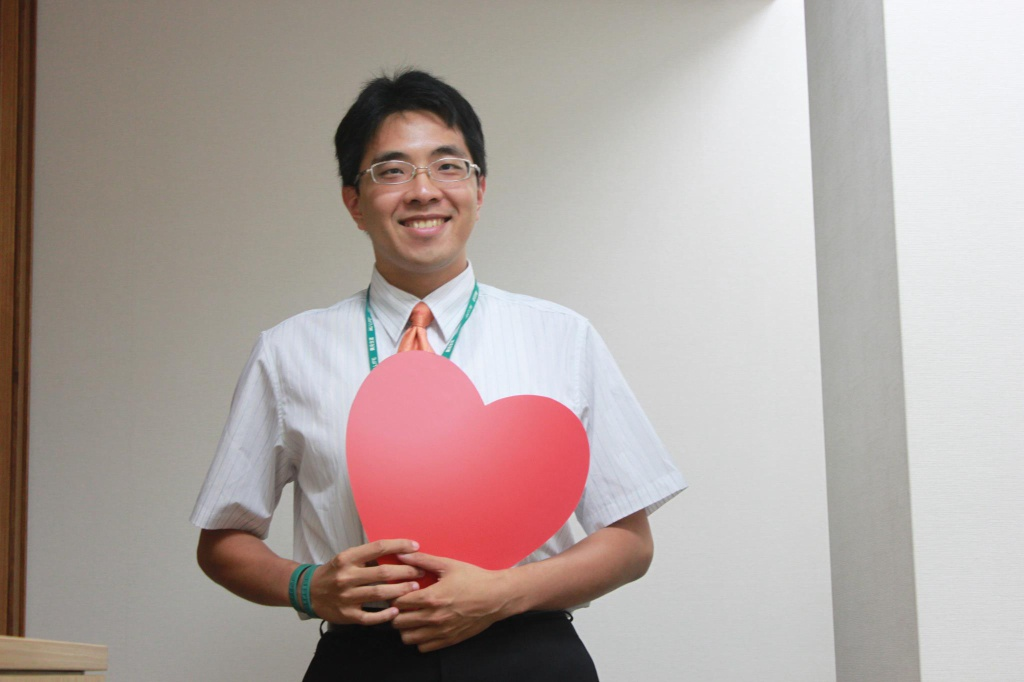male: (304, 61, 512, 273)
